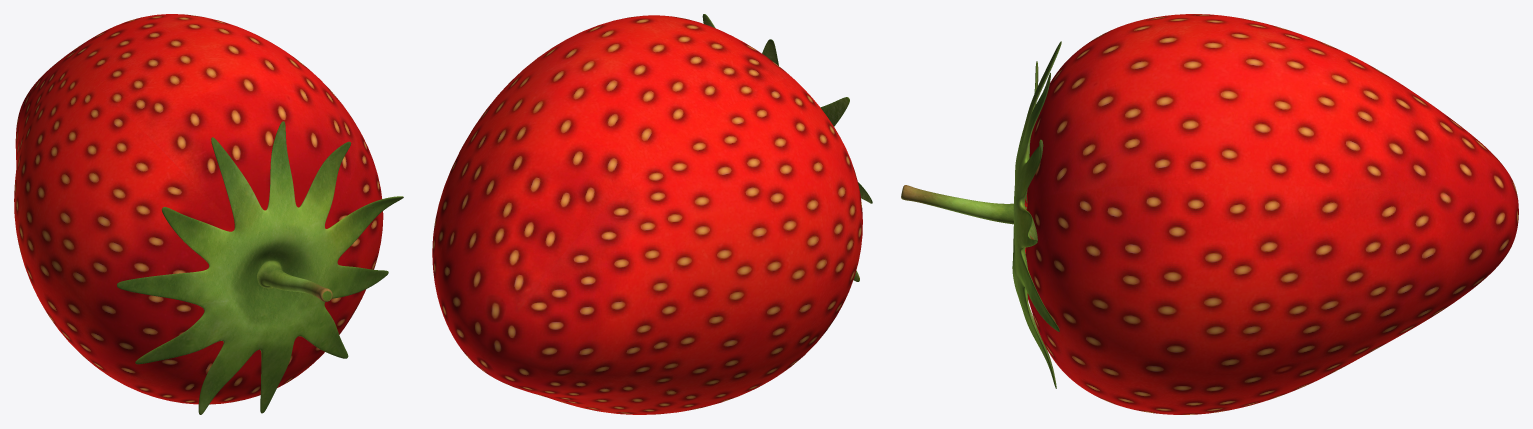
The model's file is strawberry.gltf.
3 renders of one model, left to right at view 1: azimuth 30°, elevation 25°; view 2: azimuth 150°, elevation 25°; view 3: azimuth 270°, elevation 25°, orthographic. The views are drawn at different scales.
Visible parts, largest first — view 1: Starwberry Fruit, Leaf Starwberry; view 2: Starwberry Fruit, Leaf Starwberry; view 3: Starwberry Fruit, Leaf Starwberry.
Part boxes in pixels (bbox=[...]): Starwberry Fruit: bbox=[14, 14, 383, 404]; Leaf Starwberry: bbox=[117, 121, 403, 414]; Starwberry Fruit: bbox=[432, 15, 862, 414]; Leaf Starwberry: bbox=[702, 14, 872, 281]; Starwberry Fruit: bbox=[1025, 14, 1518, 414]; Leaf Starwberry: bbox=[901, 41, 1061, 388].
Bounding box in the file's own units: 4.17 × 4.16 × 6.27.
1 material, 1 textured.
